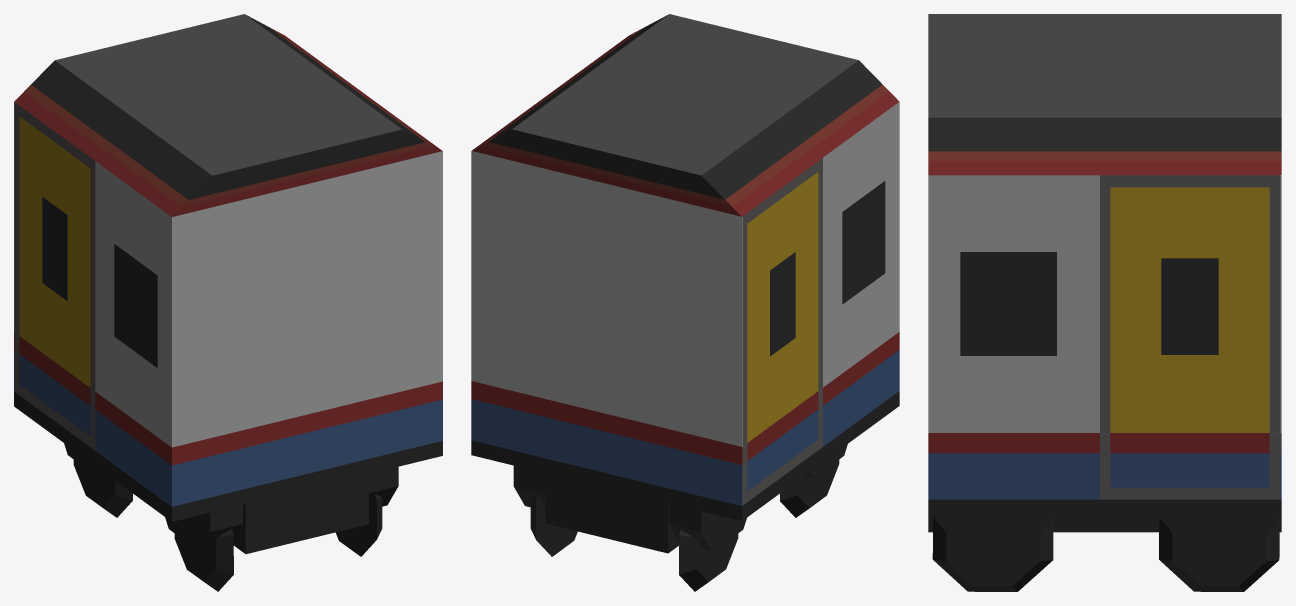
The model's file is vagon01.obj.
3 views of the same model, side by side, from view 1: azimuth 30°, elevation 25°; view 2: azimuth 150°, elevation 25°; view 3: azimuth 270°, elevation 25° (orthographic). The views are drawn at different scales.
Visible parts, largest first — view 1: SM_Veh_Metro_01:Mesh; view 2: SM_Veh_Metro_01:Mesh; view 3: SM_Veh_Metro_01:Mesh.
Part boxes in pixels (<box>): SM_Veh_Metro_01:Mesh: <box>14,14,442,591</box>; SM_Veh_Metro_01:Mesh: <box>471,14,899,591</box>; SM_Veh_Metro_01:Mesh: <box>928,14,1281,591</box>.
Size of the model in its own units: 4.86 by 7.46 by 4.9.
1 material, 1 textured.
